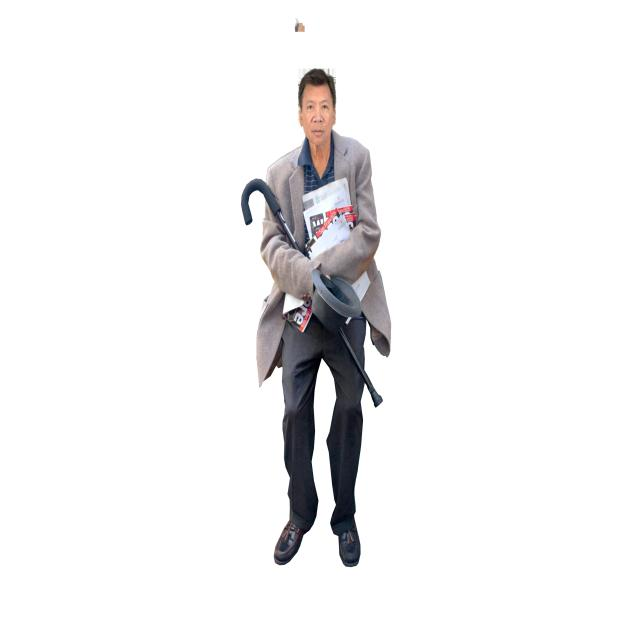jovem: (254, 62, 389, 578)
